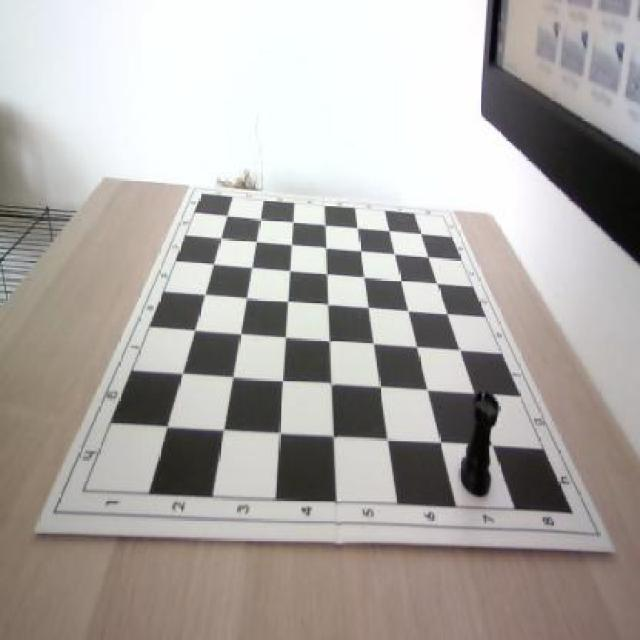black-queen: (457, 389, 499, 498)
